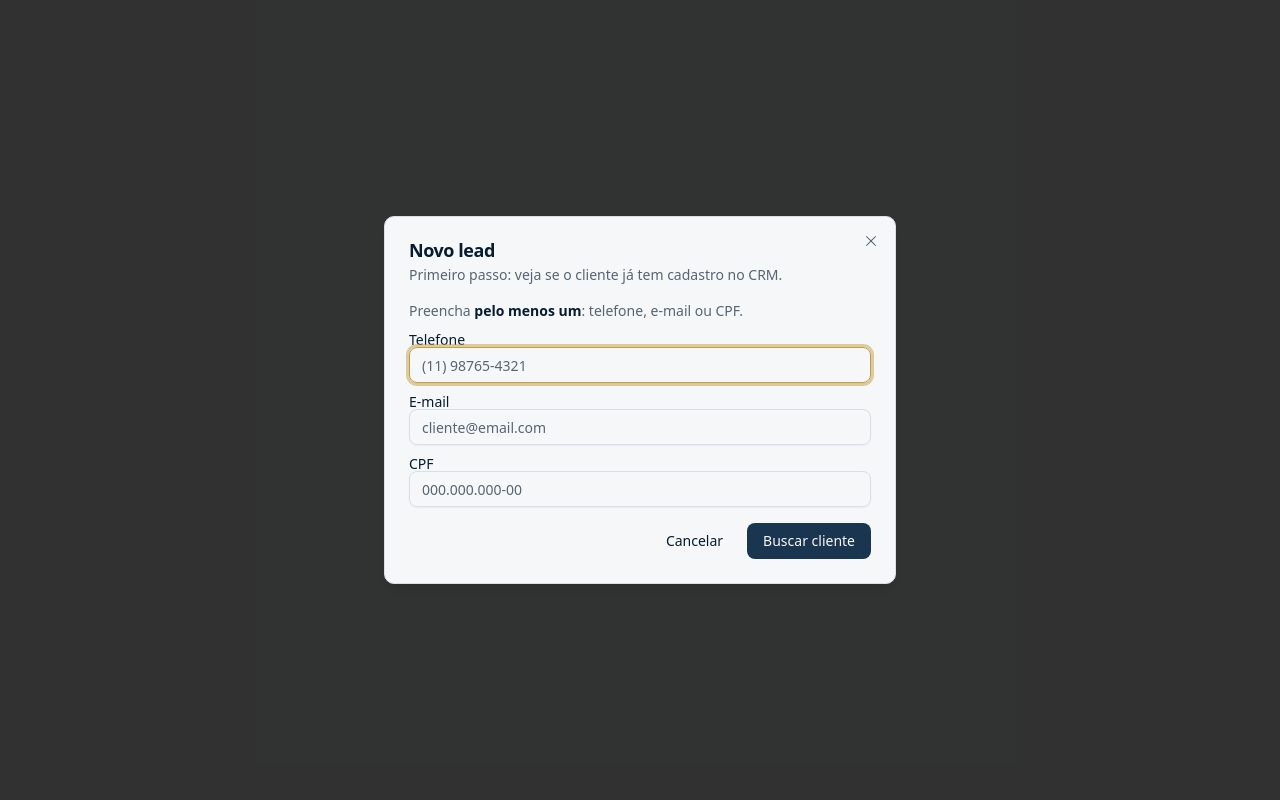
Test case: Novo lead do corretor: a busca vem primeiro › sem nenhum dos três: pede um e não consulta o banco
Click the button "Buscar cliente".
click(809, 541)  # box [747,523,871,559]
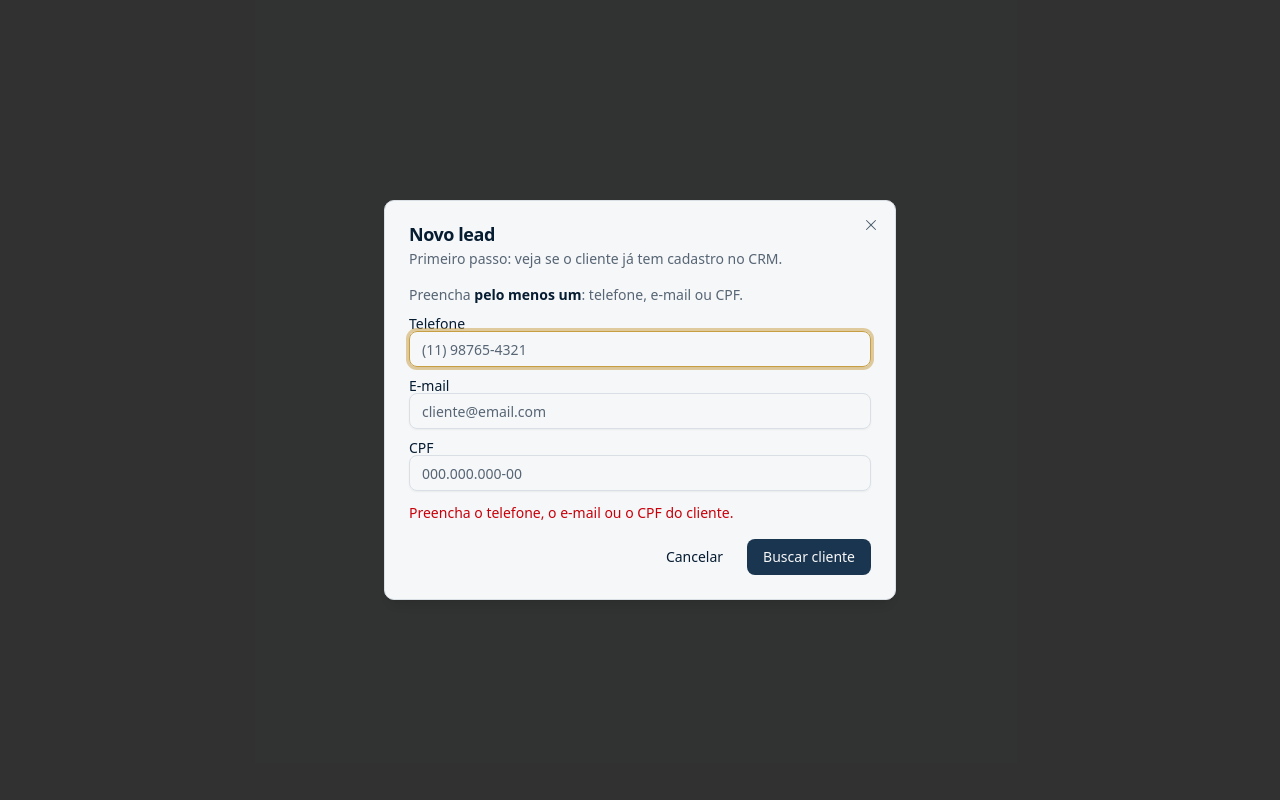
Check: the text with test id "oportunidade-erro" shows "telefone, o e-mail", box [409,503,733,522]
